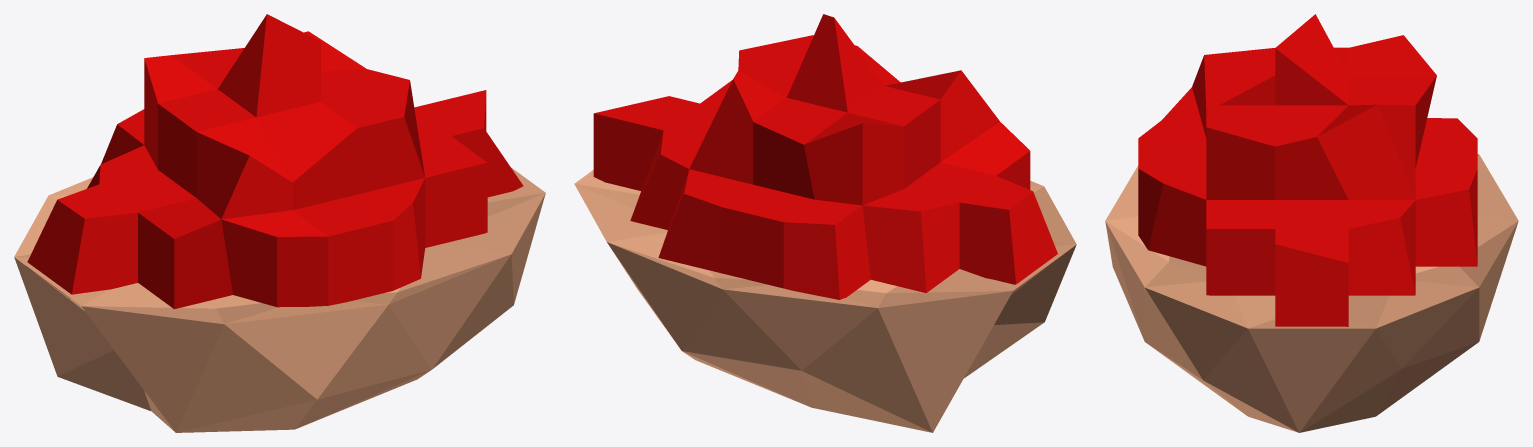
The model's file is Stone.fbx.
3 views of the same model, side by side, from view 1: azimuth 30°, elevation 25°; view 2: azimuth 150°, elevation 25°; view 3: azimuth 270°, elevation 25° (orthographic). The views are drawn at different scales.
Parts seen in each view (by area): view 1: Sphere, Stone; view 2: Sphere, Stone; view 3: Sphere, Stone.
Boxes of the visible parts, bbox=[...] form: Sphere: bbox=[26, 14, 523, 309]; Stone: bbox=[14, 167, 545, 432]; Sphere: bbox=[593, 14, 1059, 299]; Stone: bbox=[574, 170, 1076, 432]; Sphere: bbox=[1138, 14, 1477, 326]; Stone: bbox=[1105, 154, 1518, 432].
Size of the model in its own units: 134 by 109 by 108.
